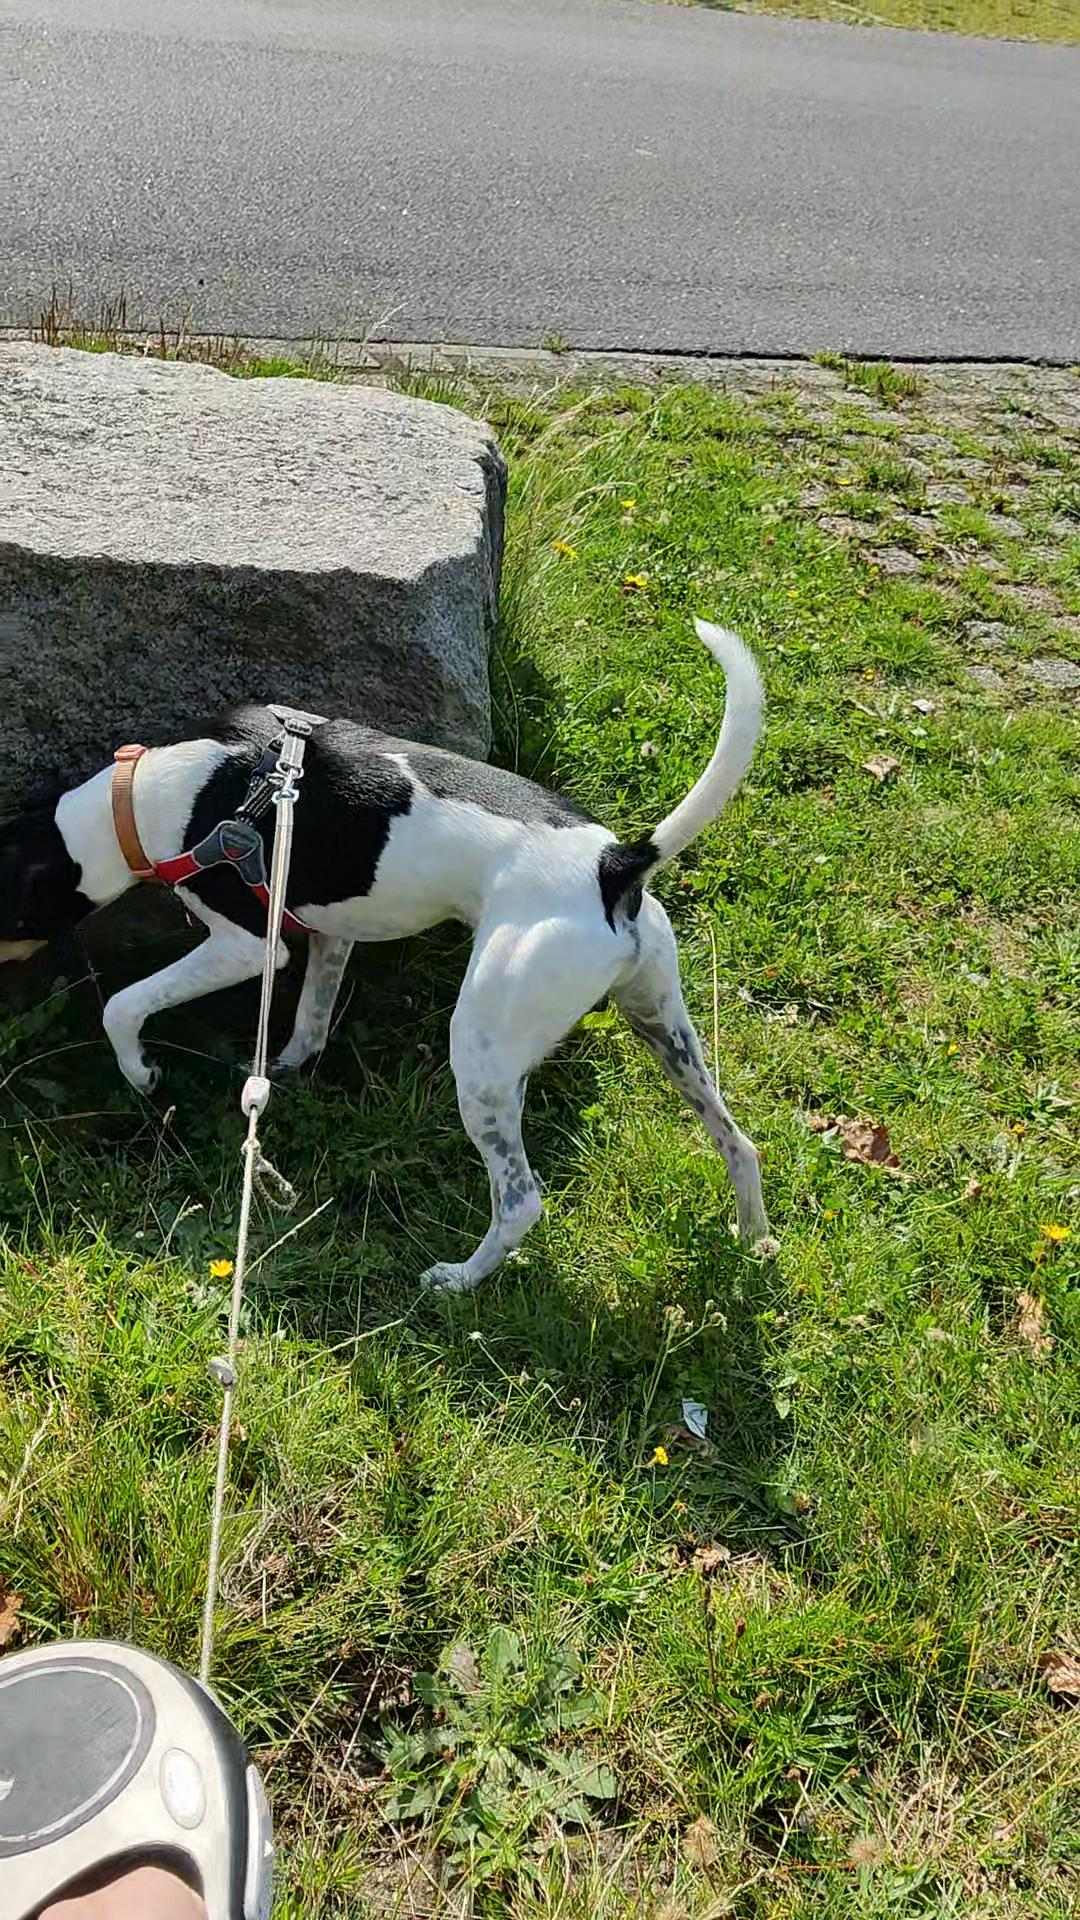Dog: (0, 604, 796, 1299)
